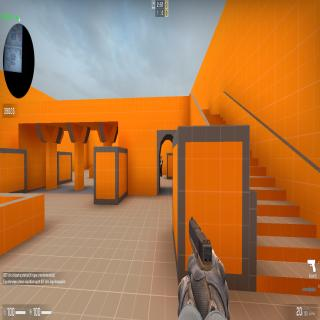T-Body: (160, 156, 163, 177)
T-Head: (160, 156, 162, 159)
